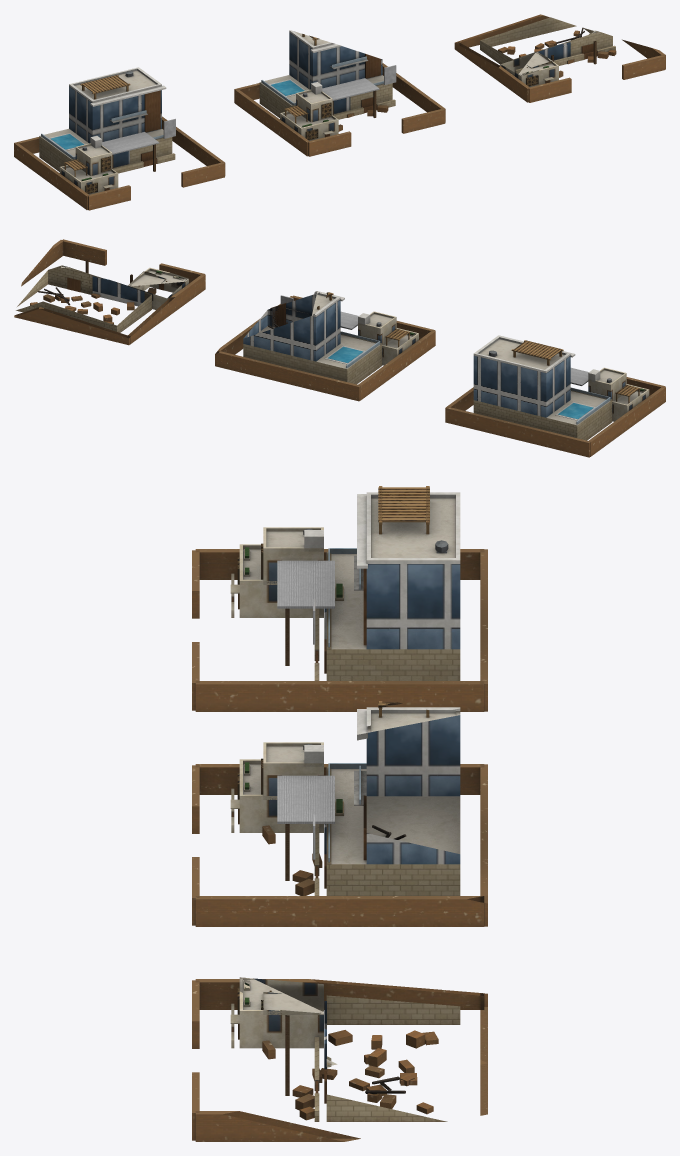
Rendered from civic-modern-levant.glb.
3 renders of one model, top to bottom at view 1: azimuth 30°, elevation 25°; view 2: azimuth 150°, elevation 25°; view 3: azimuth 270°, elevation 25°, orthographic. The views are drawn at different scales.
Parts seen in each view (by area): view 1: LOD0, LOD0.001, LOD0.002; view 2: LOD0, LOD0.001, LOD0.002; view 3: LOD0.001, LOD0, LOD0.002.
Boxes of the visible parts, x1,y1,x2,y2 form: LOD0: (14,67,225,210); LOD0.001: (234,30,445,156); LOD0.002: (454,14,665,102); LOD0: (445,335,665,457); LOD0.001: (215,291,435,401); LOD0.002: (14,239,205,345); LOD0.001: (192,701,487,926); LOD0: (192,486,487,711); LOD0.002: (192,977,487,1141).
Size of what is drawn, in the model's own units: 7.89 by 0.92 by 1.74.
Materials: 2 (2 with a texture image).
